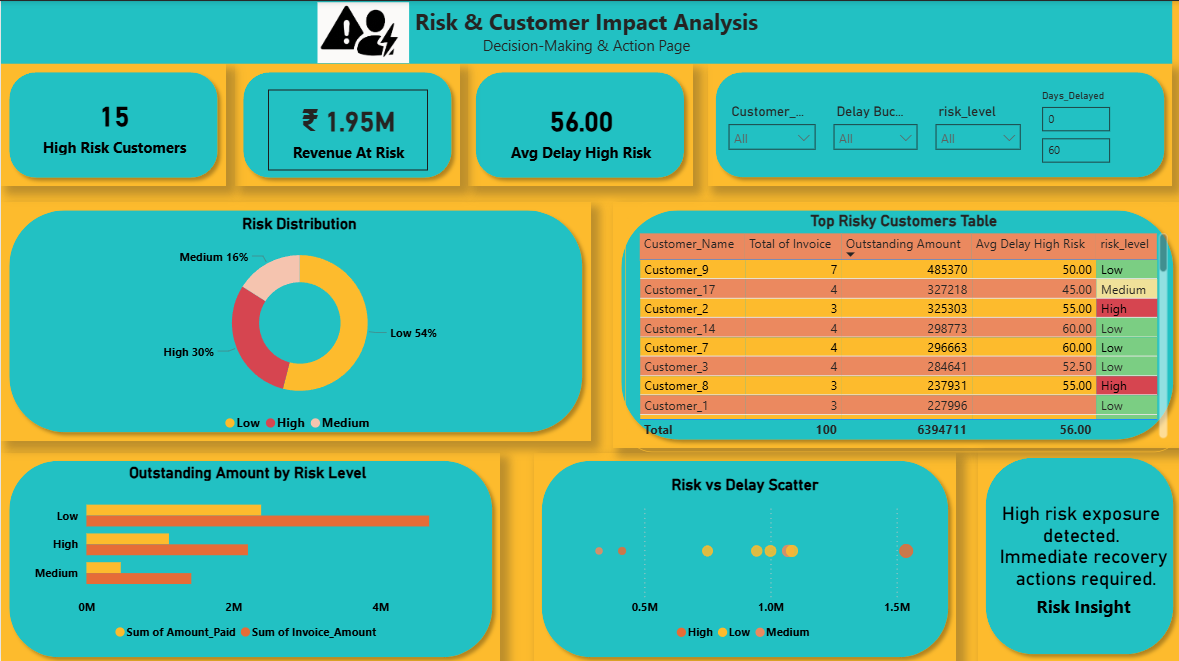

What the dashboard file says about the page in this screenshot:
{"tool":"powerbi","page":{"name":"Customer Risk Profiling","canvas":[1280,720],"ordinal":3},"visuals":[{"type":"shape","box":[663.6,218,616.5,266.8],"z":0},{"type":"shape","box":[1058.9,486.3,221.2,231],"z":1000},{"type":"shape","box":[766.1,68.3,504.2,131.8],"z":2000},{"type":"shape","box":[577.4,489.6,458.7,231],"z":3000},{"type":"shape","box":[0,489.6,541.6,231],"z":4000},{"type":"shape","box":[506.5,68,243.8,132.3],"z":5000},{"type":"shape","box":[253.2,68,243.8,132.3],"z":6000},{"type":"shape","box":[0,68,243.8,132.3],"z":7000},{"type":"clusteredBarChart","title":"Outstanding Amount by Risk Level","fields":{"Y":["Sum(revenue_processed.Amount_Paid)","Sum(revenue_processed.Invoice_Amount)"],"Category":["revenue_processed.risk_level"]},"box":[29.3,501,476.6,201.7],"z":8000},{"type":"shape","box":[0,218,639.2,258.6],"z":9000},{"type":"donutChart","title":"Risk Distribution","fields":{"Y":["CountNonNull(revenue_processed.Invoice_ID)"],"Category":["revenue_processed.risk_level"]},"box":[19.5,231,608.3,245.6],"z":10000},{"type":"scatterChart","title":"Risk vs Delay Scatter","fields":{"Category":["revenue_processed.Days_Delayed"],"X":["revenue_processed.Revenue Leakage"],"Size":["revenue_processed.Outstanding Amount"],"Series":["revenue_processed.risk_level"]},"box":[595.3,514,422.9,188.7],"z":11000},{"type":"slicer","fields":{"Values":["revenue_processed.Customer_Name"]},"box":[779.1,105.7,113.9,65.1],"z":12000},{"type":"slicer","fields":{"Values":["revenue_processed.Delay Bucket"]},"box":[893,105.7,110.6,65.1],"z":13000},{"type":"slicer","fields":{"Values":["revenue_processed.risk_level"]},"box":[1003.6,105.7,112.2,65.1],"z":14000},{"type":"card","fields":{"Values":["revenue_processed.Risk Insight"]},"box":[1076.8,501,193.6,201.7],"z":15000},{"type":"textbox","box":[0,0,1269.9,68],"z":16000},{"type":"card","fields":{"Values":["revenue_processed.High Risk Customers"]},"box":[35.9,96.4,173.9,75.6],"z":17000},{"type":"card","fields":{"Values":["revenue_processed.Revenue At Risk"]},"box":[289.1,96.4,173.9,86.9],"z":18000},{"type":"card","fields":{"Values":["revenue_processed.Avg Delay High Risk"]},"box":[542.4,96.4,173.9,86.9],"z":19000},{"type":"tableEx","title":"Top Risky Customers Table","fields":{"Values":["revenue_processed.Customer_Name","CountNonNull(revenue_processed.Invoice_ID)","revenue_processed.Outstanding Amount","revenue_processed.Avg Delay High Risk","revenue_processed.risk_level"]},"box":[676.6,218,603.4,271.6],"z":20000},{"type":"slicer","fields":{"Values":["revenue_processed.Days_Delayed"]},"box":[1115.8,91.1,131.8,91.1],"z":21000},{"type":"image","box":[343.2,0,99.2,68.3],"z":21001}]}

Visuals, with their boxes in screenshot pixels (x1, y1, x2, y2), scaled from the page's 1280x720 canvas onto the 1179x661 screenshot:
shape: x1=611 y1=200 x2=1178 y2=445
shape: x1=975 y1=446 x2=1178 y2=659
shape: x1=706 y1=63 x2=1170 y2=184
shape: x1=532 y1=449 x2=954 y2=660
shape: x1=0 y1=449 x2=499 y2=660
shape: x1=467 y1=62 x2=691 y2=184
shape: x1=233 y1=62 x2=458 y2=184
shape: x1=0 y1=62 x2=225 y2=184
"Outstanding Amount by Risk Level" clusteredBarChart: x1=27 y1=460 x2=466 y2=645
shape: x1=0 y1=200 x2=589 y2=438
"Risk Distribution" donutChart: x1=18 y1=212 x2=578 y2=438
"Risk vs Delay Scatter" scatterChart: x1=548 y1=472 x2=938 y2=645
slicer - revenue_processed.Customer_Name: x1=718 y1=97 x2=823 y2=157
slicer - revenue_processed.Delay Bucket: x1=823 y1=97 x2=924 y2=157
slicer - revenue_processed.risk_level: x1=924 y1=97 x2=1028 y2=157
card - revenue_processed.Risk Insight: x1=992 y1=460 x2=1170 y2=645
textbox: x1=0 y1=0 x2=1170 y2=62
card - revenue_processed.High Risk Customers: x1=33 y1=89 x2=193 y2=158
card - revenue_processed.Revenue At Risk: x1=266 y1=89 x2=426 y2=168
card - revenue_processed.Avg Delay High Risk: x1=500 y1=89 x2=660 y2=168
"Top Risky Customers Table" tableEx: x1=623 y1=200 x2=1178 y2=449
slicer - revenue_processed.Days_Delayed: x1=1028 y1=84 x2=1149 y2=167
image: x1=316 y1=0 x2=407 y2=63
